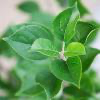Apple leaf: (2, 24, 58, 65), (50, 0, 81, 43), (50, 54, 86, 88), (34, 69, 66, 100), (63, 42, 88, 58)
